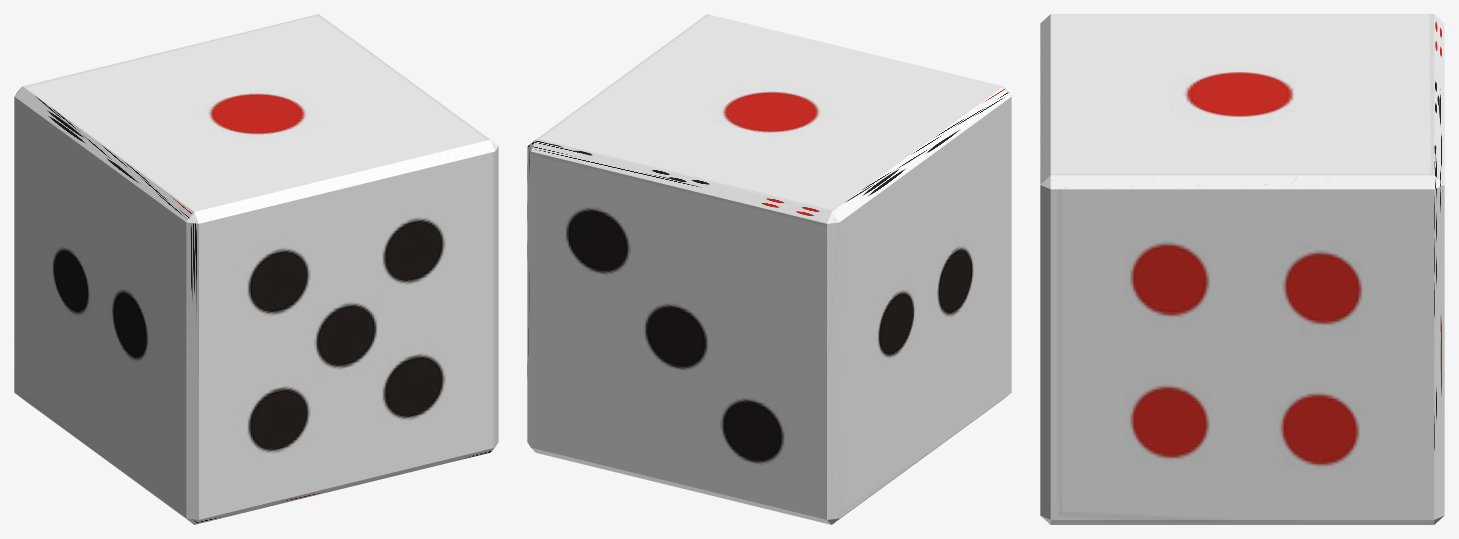
The model's file is touzi01.FBX.
3 views of the same model, side by side, from view 1: azimuth 30°, elevation 25°; view 2: azimuth 150°, elevation 25°; view 3: azimuth 270°, elevation 25° (orthographic). The views are drawn at different scales.
Visible parts, largest first — view 1: Box001; view 2: Box001; view 3: Box001.
Part boxes in pixels (left/top/right/bottom): Box001: left=14, top=14, right=498, bottom=524; Box001: left=527, top=14, right=1011, bottom=524; Box001: left=1040, top=14, right=1444, bottom=524.
Bounding box in the file's own units: 7.72 × 7.4 × 7.76.
